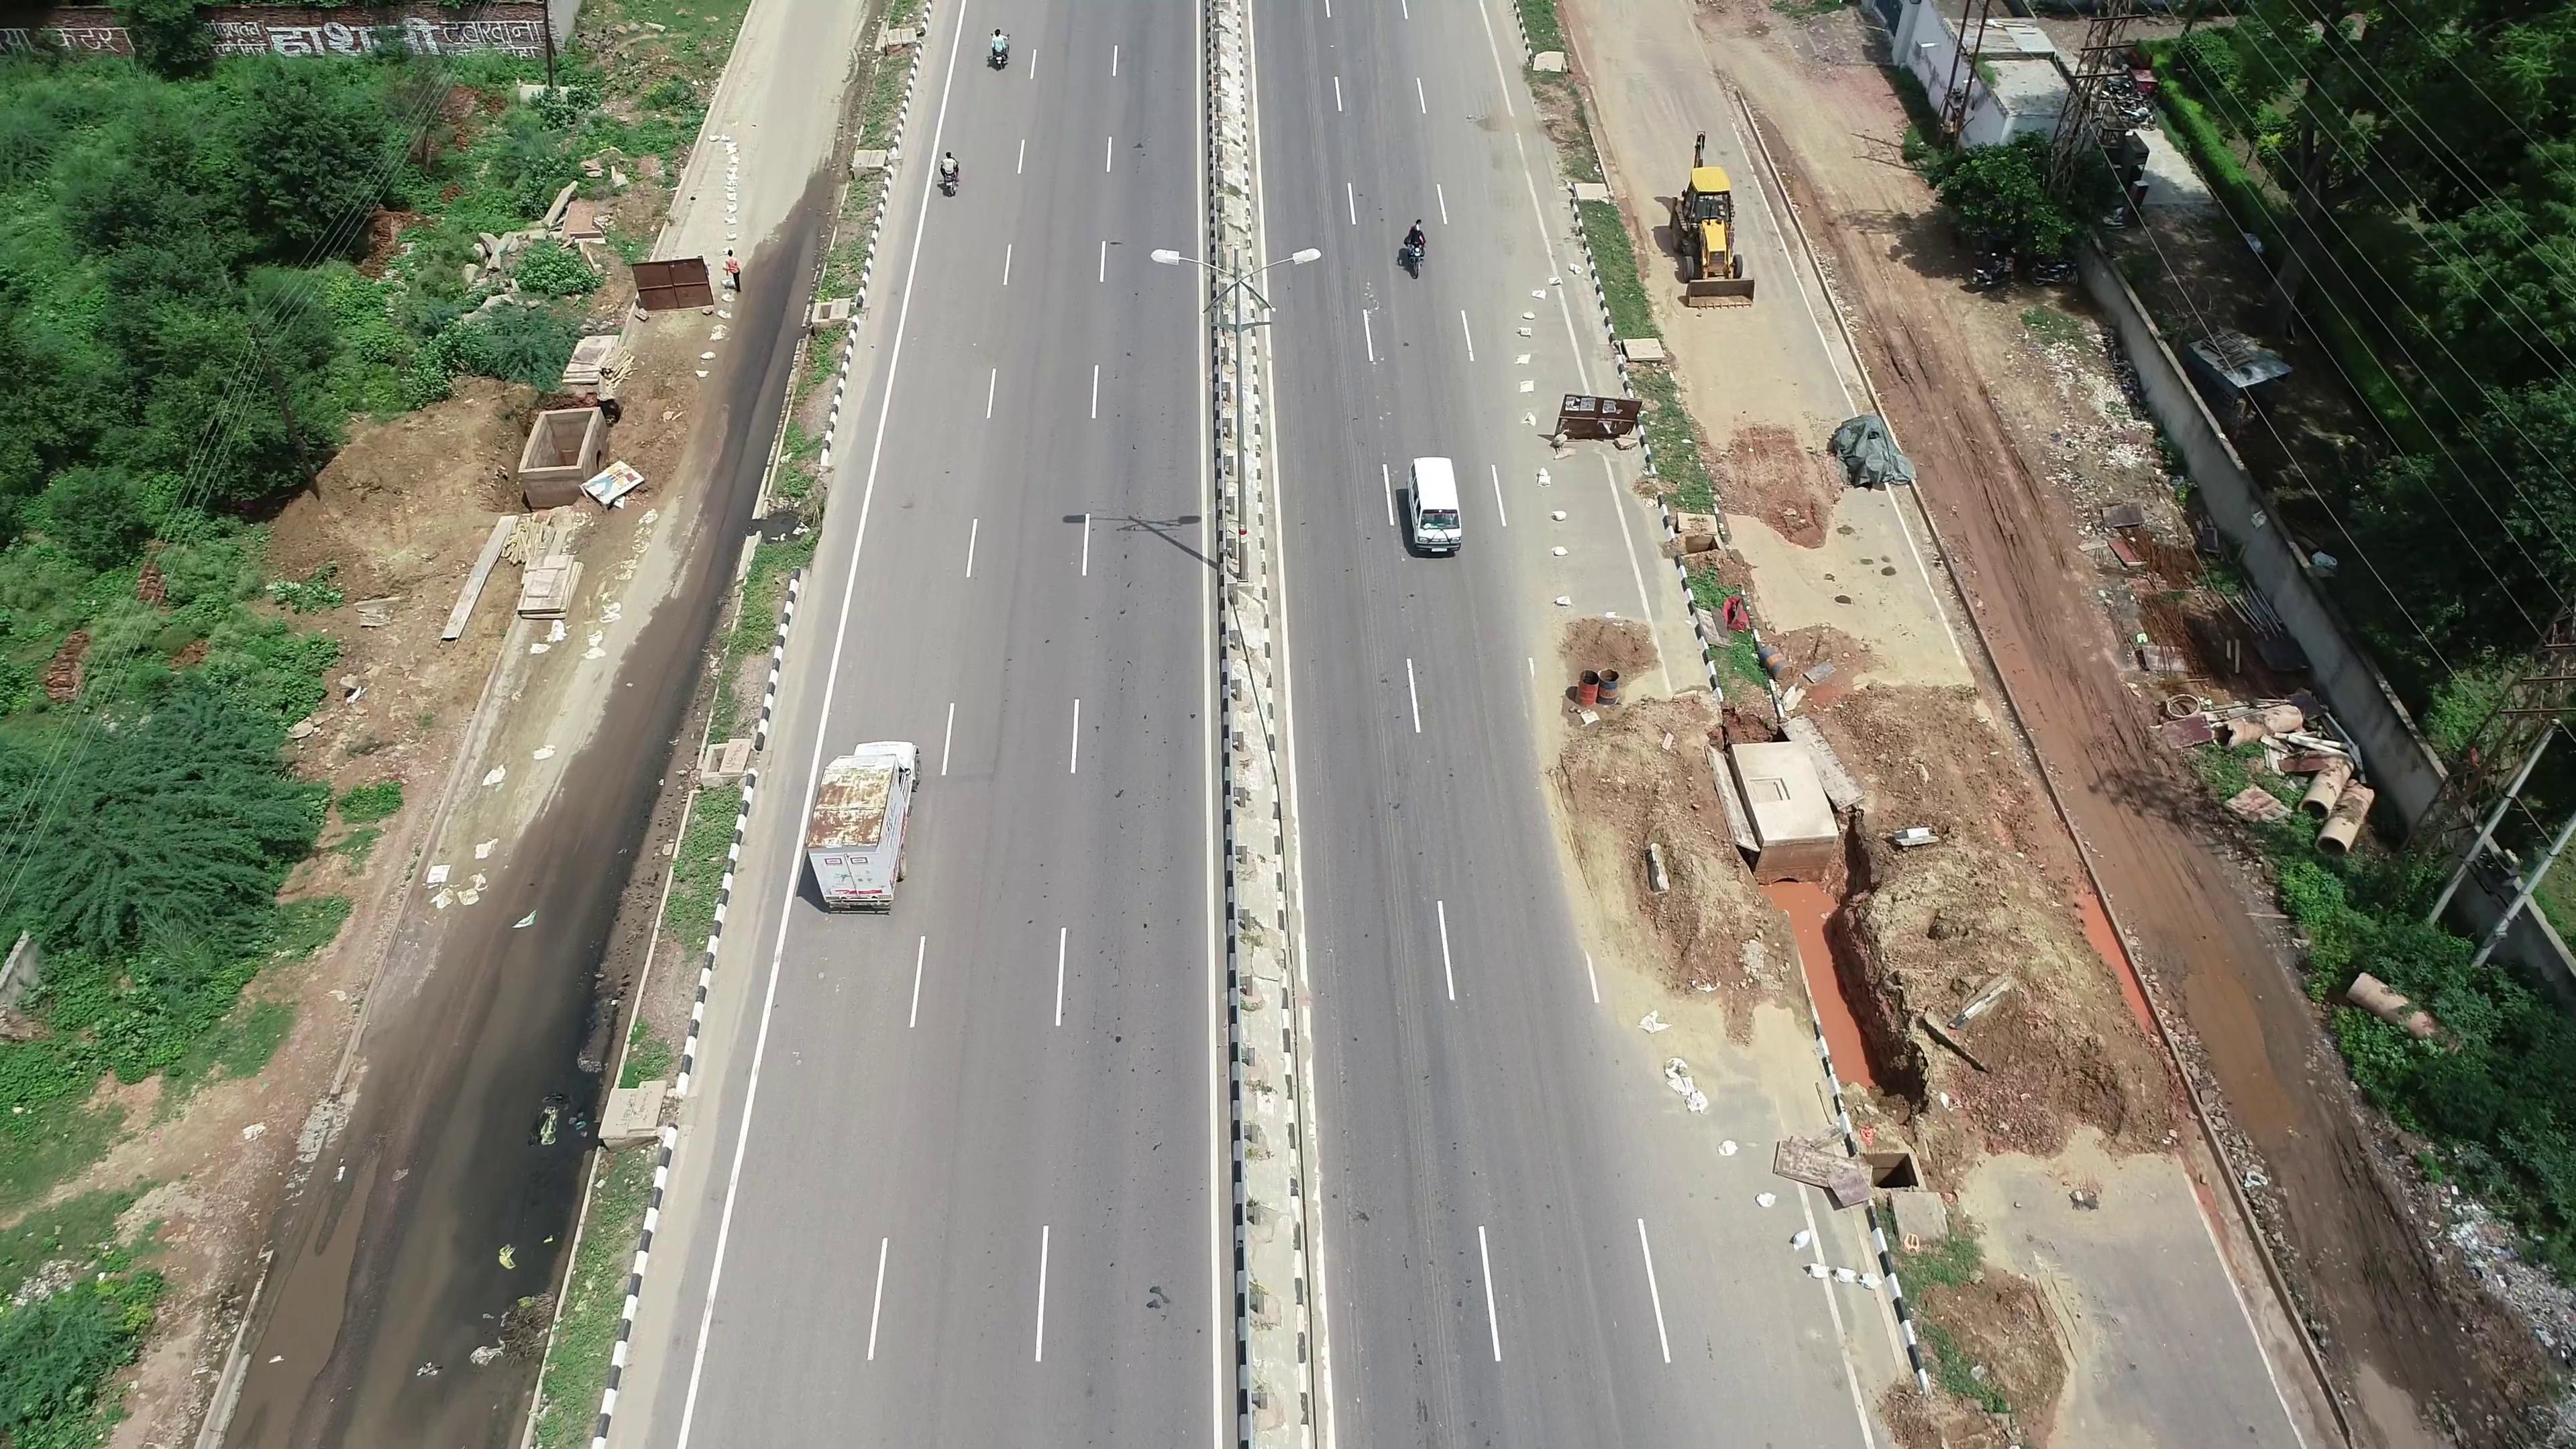Muddy_road: (1553, 727, 1725, 1000)
